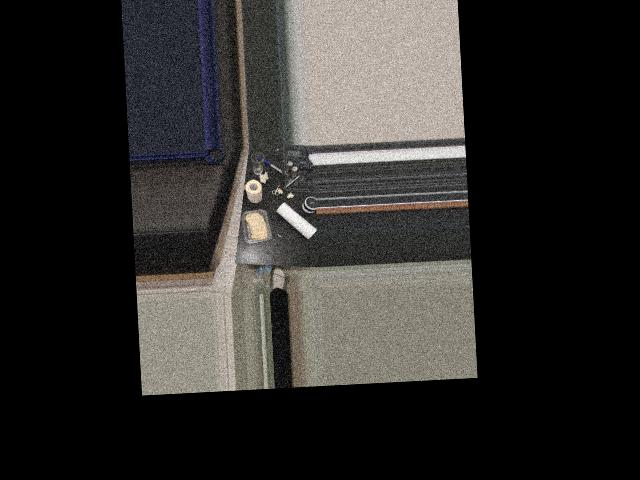cheese: (240, 207, 273, 247)
